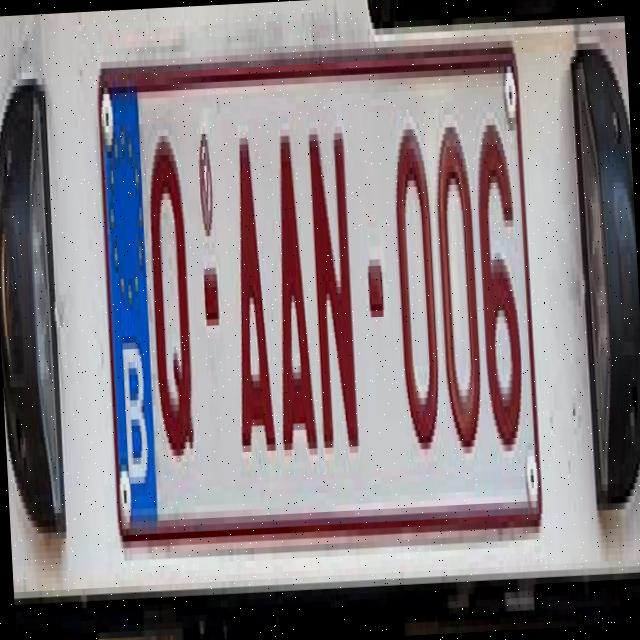Belgique: (98, 70, 160, 514)
EU: (97, 59, 545, 560)
